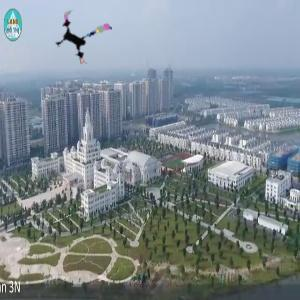drone: (52, 6, 114, 68)
